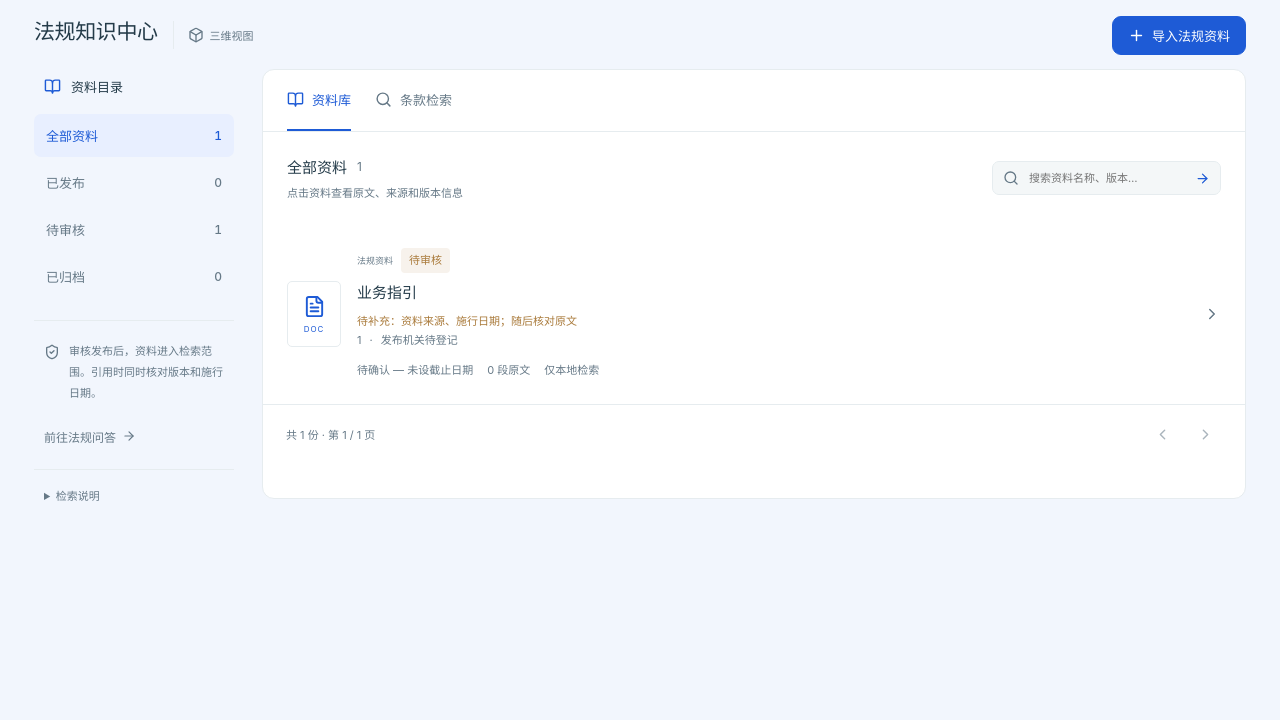
shows concrete missing review metadata, then opens the knowledge workspace
The image size is (1280, 720).
Click the button "待补充：资料来源、施行日期；随后核对原文" at (754, 314), box [287,224,1221,404]
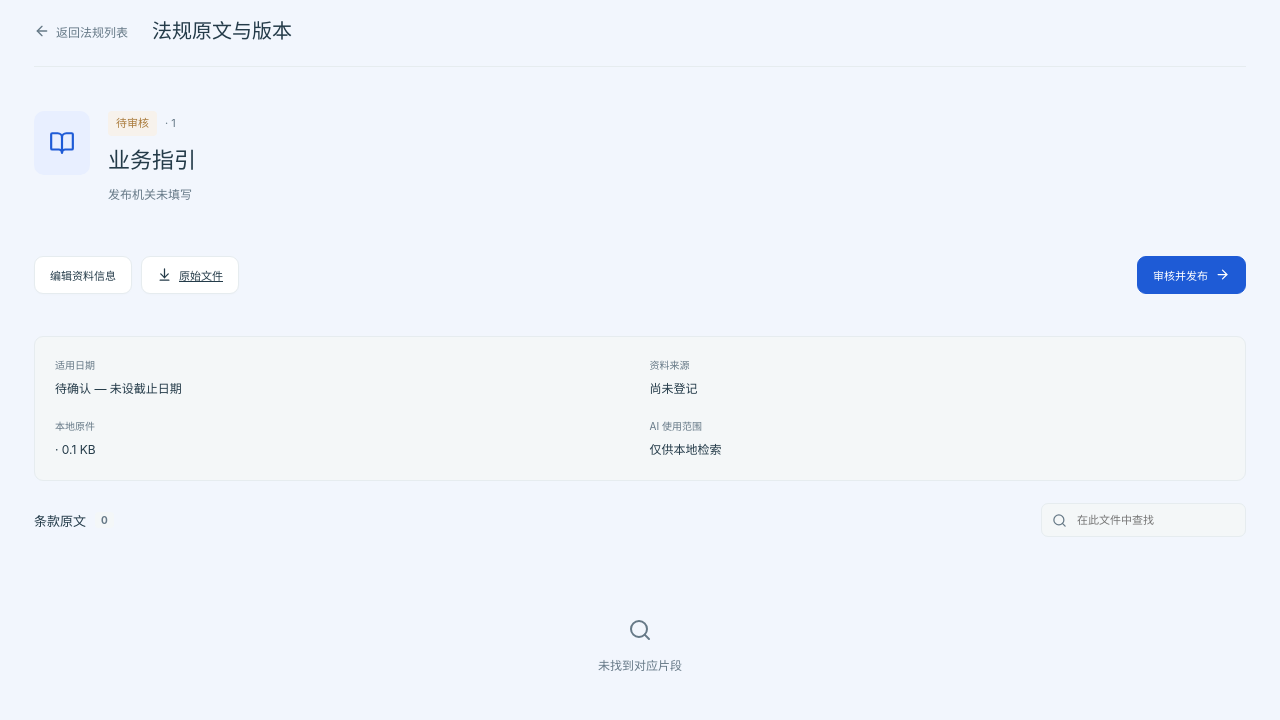
Click the button "返回法规列表" at (81, 31), box [34,18,128,44]
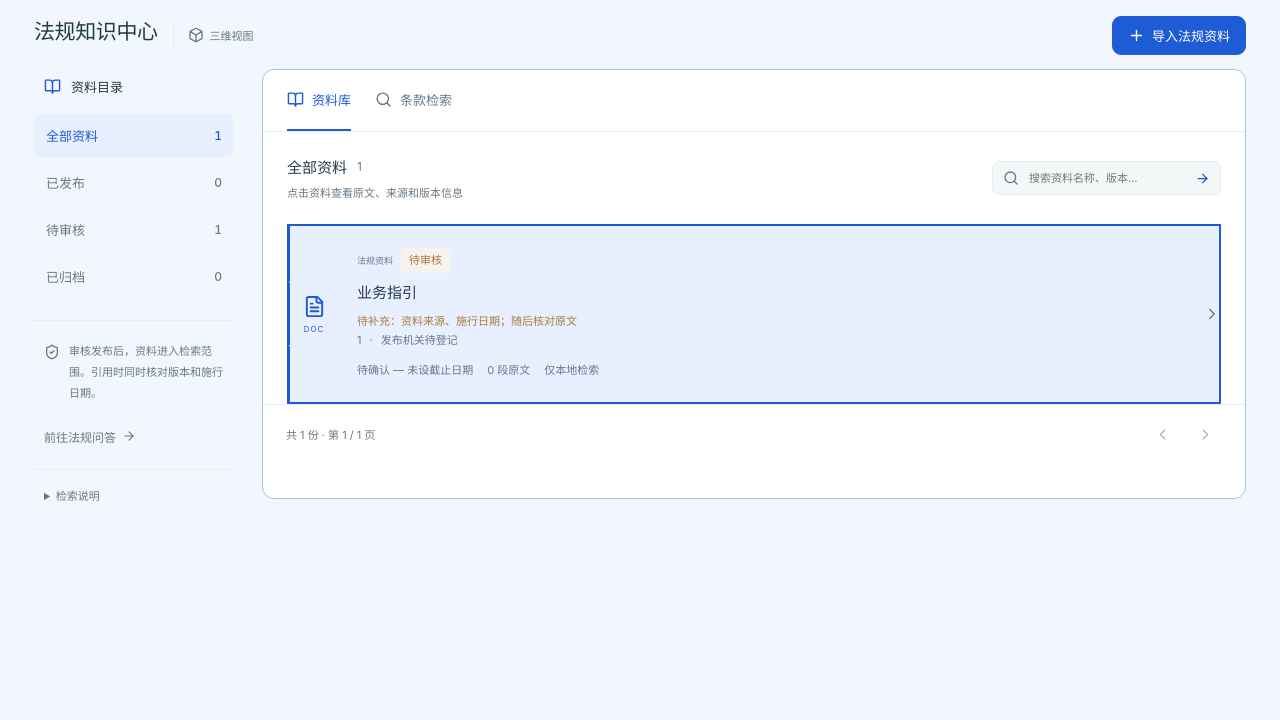
Expected: the text "待补充：资料来源、施行日期；随后核对原文" is shown, [357,314,577,328]
